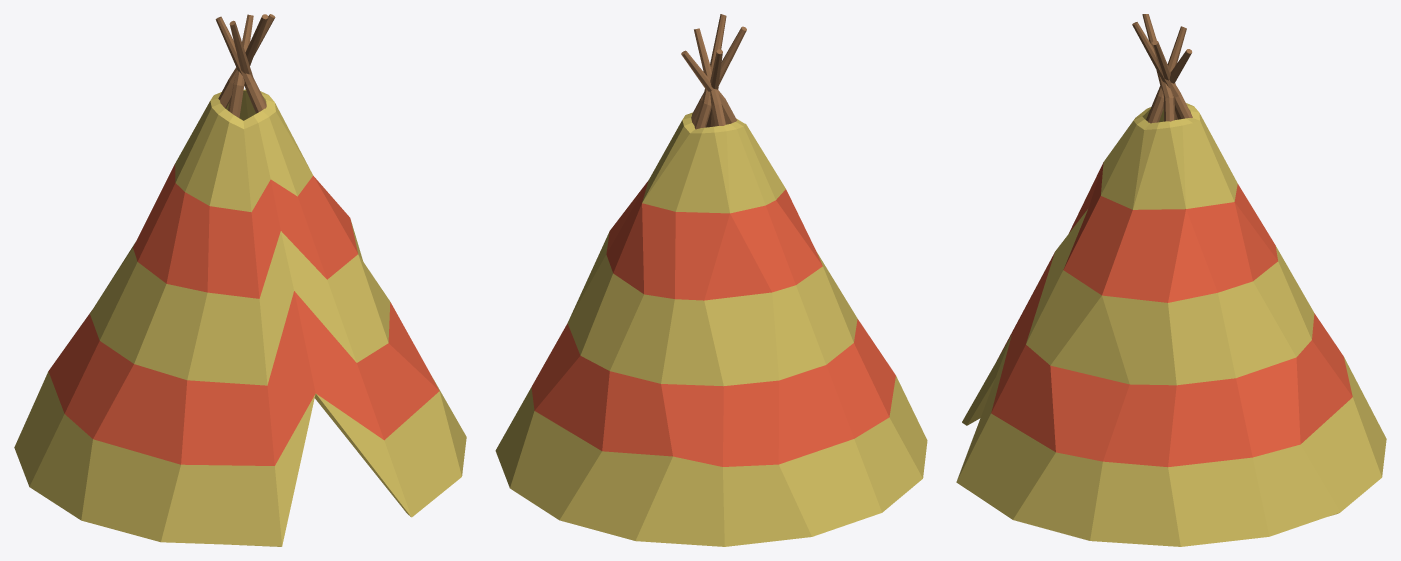
File: Tend_2.fbx
3 renders of one model, left to right at view 1: azimuth 30°, elevation 25°; view 2: azimuth 150°, elevation 25°; view 3: azimuth 270°, elevation 25°, orthographic. The views are drawn at different scales.
Visible parts, largest first — view 1: Tend2_mesh; view 2: Tend2_mesh; view 3: Tend2_mesh.
Part boxes in pixels (x1,y1,x2,y2): Tend2_mesh: [14, 14, 466, 546]; Tend2_mesh: [495, 14, 927, 546]; Tend2_mesh: [956, 14, 1386, 546].
Bounding box in the file's own units: 630 × 694 × 618.
